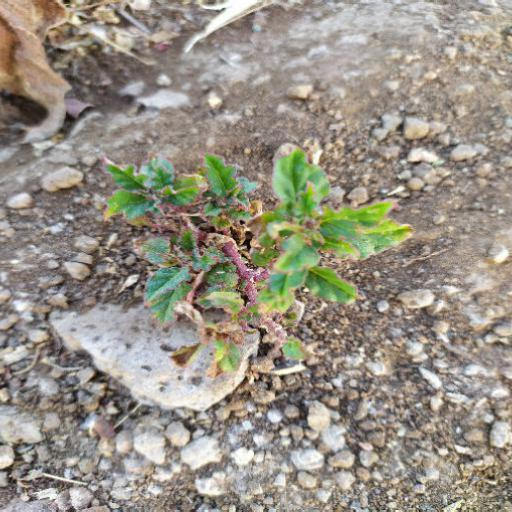weed: (101, 150, 414, 375)
